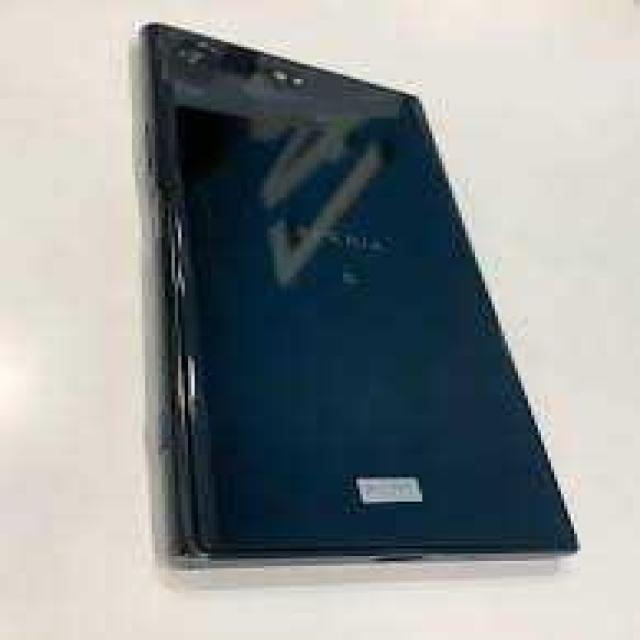Smartphone: (126, 19, 596, 580)
